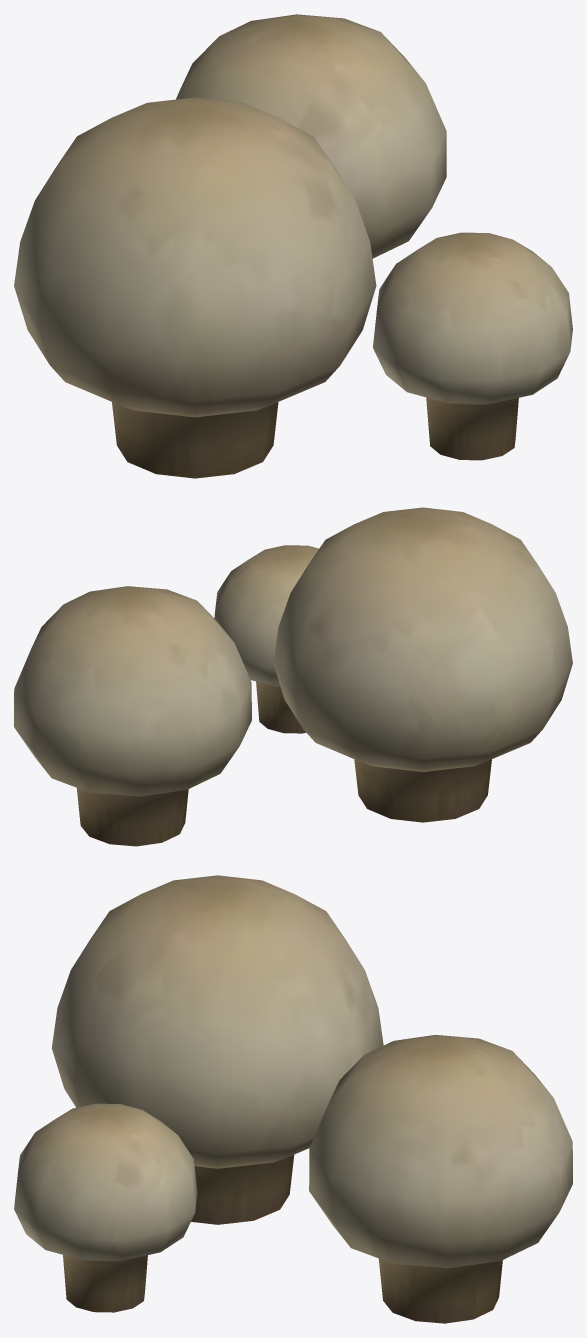
Rendered from round-mushroom.glb.
The picture shows the model from 3 angles, top to bottom: view 1: azimuth 30°, elevation 25°; view 2: azimuth 150°, elevation 25°; view 3: azimuth 270°, elevation 25°; orthographic projection. The views are drawn at different scales.
Bounding box in the file's own units: 3.91 × 2.45 × 4.04.
1 material, 1 textured.
